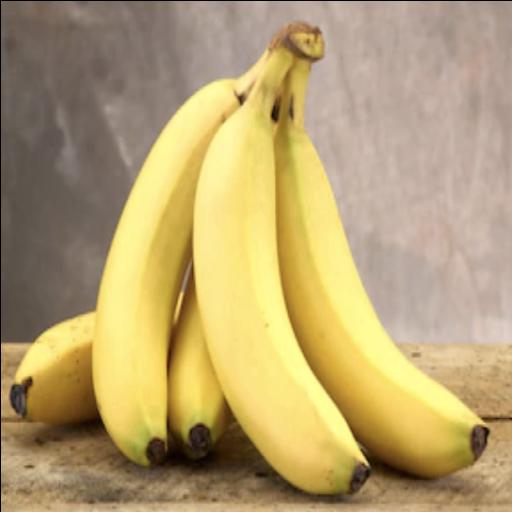banana: (274, 62, 487, 477), (193, 23, 369, 493), (92, 51, 266, 466), (167, 269, 230, 459), (9, 312, 97, 424)
